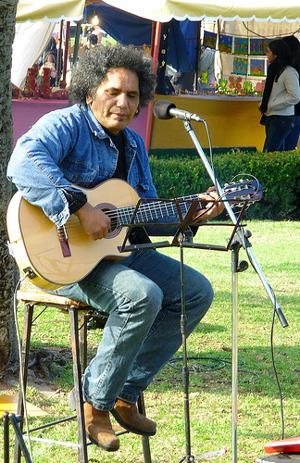person: (6, 44, 226, 451)
